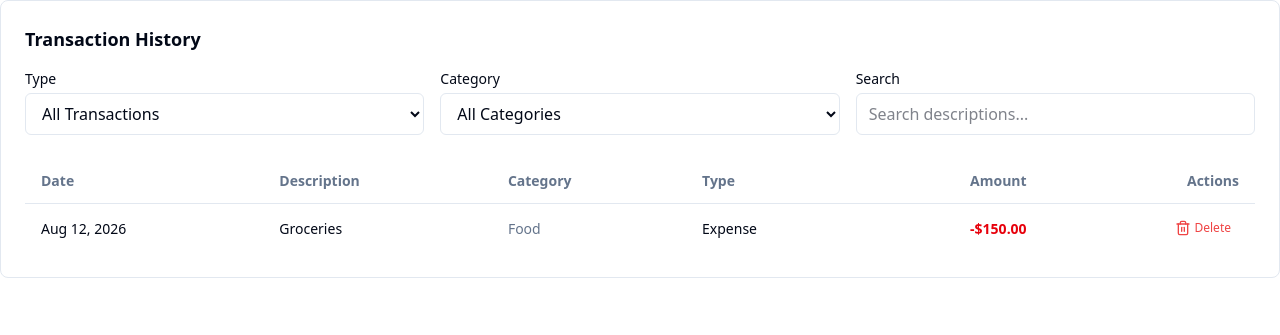
Test: TransactionHistory › shows clear filters button when filters are active
// Apply a filter
Step 1. Select "Expense" in the dropdown labelled "Type" → (225, 114), box [25,93,424,135]
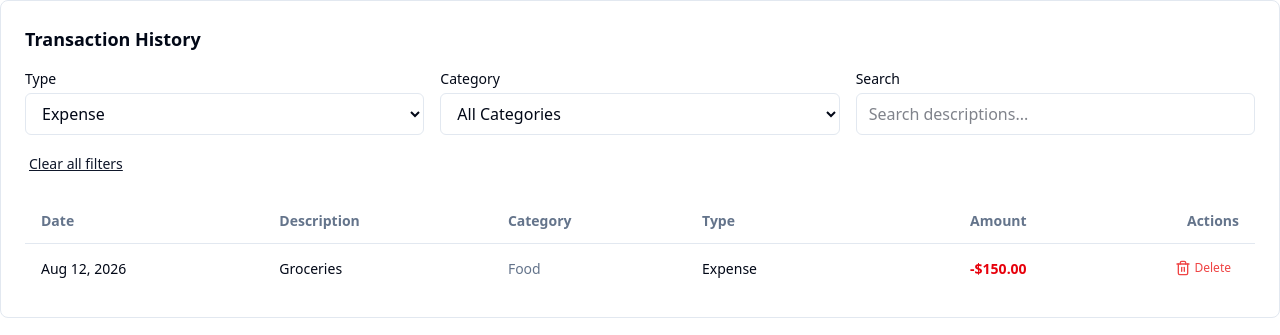
Expected: the button "Clear all filters" is shown, [25,154,127,174]
